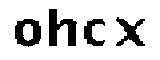c: (81, 17, 108, 48)
h: (45, 5, 79, 52)
o: (12, 17, 42, 49)
x: (112, 16, 148, 49)
